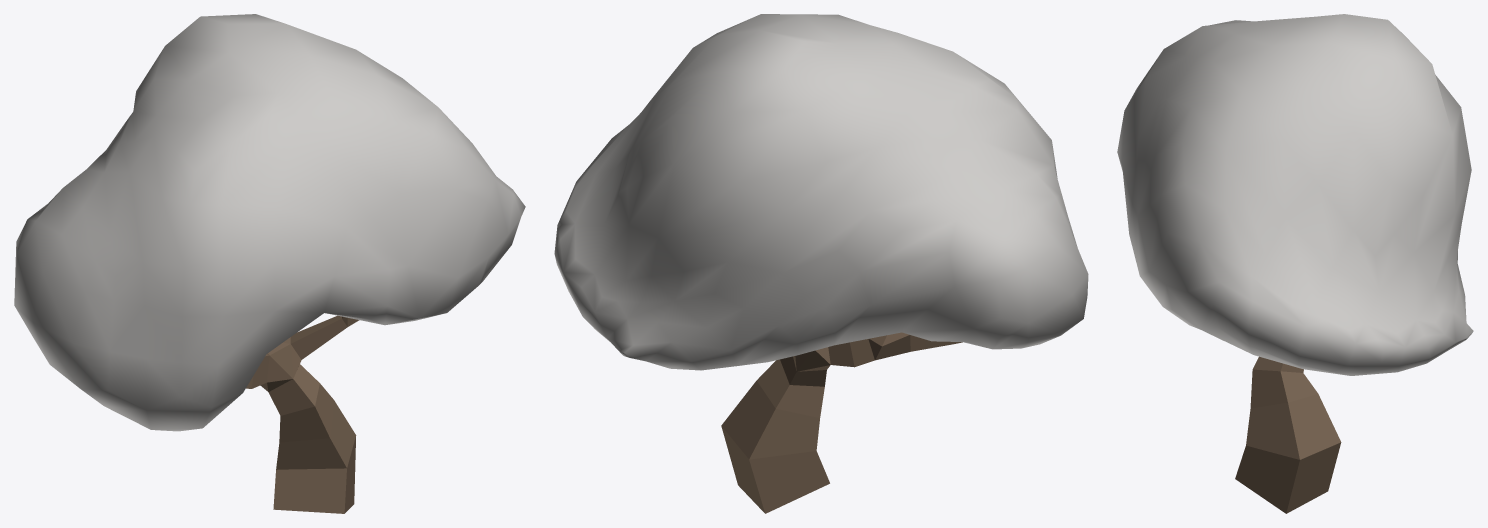
File: Bush_007.fbx
The picture shows the model from 3 angles, left to right: view 1: azimuth 30°, elevation 25°; view 2: azimuth 150°, elevation 25°; view 3: azimuth 270°, elevation 25°; orthographic projection. The views are drawn at different scales.
Parts seen in each view (by area): view 1: Bush.007; view 2: Bush.007; view 3: Bush.007.
Boxes of the visible parts, bbox=[...] form: Bush.007: bbox=[14, 14, 525, 513]; Bush.007: bbox=[554, 14, 1088, 513]; Bush.007: bbox=[1117, 14, 1473, 513].
Bounding box in the file's own units: 239 × 231 × 164.
